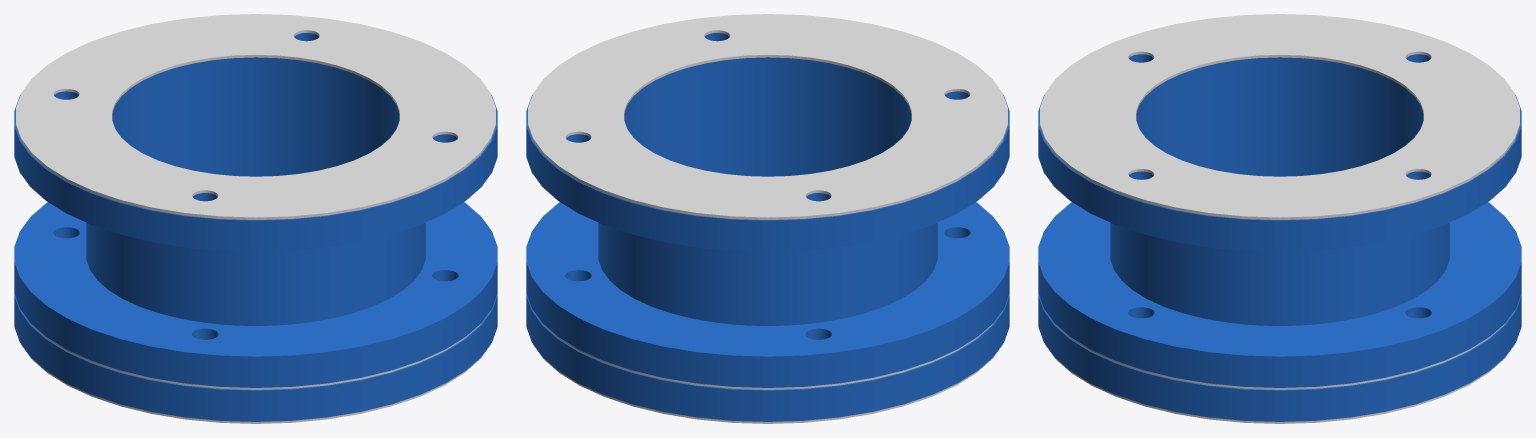
Rendered from m09_baugruppe.glb.
3 views of the same model, side by side, from view 1: azimuth 30°, elevation 25°; view 2: azimuth 150°, elevation 25°; view 3: azimuth 270°, elevation 25° (orthographic).
Parts seen in each view (by area): view 1: M09-P04_1, M09-P06_2, M09-P01_1, M09-P06_1, M09-P05_1; view 2: M09-P04_1, M09-P06_2, M09-P01_1, M09-P06_1, M09-P05_1; view 3: M09-P04_1, M09-P06_2, M09-P01_1, M09-P06_1, M09-P05_1.
Boxes of the visible parts, bbox=[...] form: M09-P04_1: bbox=[14, 33, 497, 387]; M09-P06_2: bbox=[16, 14, 495, 219]; M09-P01_1: bbox=[14, 293, 497, 421]; M09-P06_1: bbox=[21, 344, 490, 423]; M09-P05_1: bbox=[21, 310, 490, 389]; M09-P04_1: bbox=[526, 33, 1009, 387]; M09-P06_2: bbox=[528, 14, 1007, 219]; M09-P01_1: bbox=[526, 293, 1009, 421]; M09-P06_1: bbox=[533, 344, 1002, 423]; M09-P05_1: bbox=[533, 310, 1002, 389]; M09-P04_1: bbox=[1038, 54, 1521, 387]; M09-P06_2: bbox=[1040, 14, 1519, 219]; M09-P01_1: bbox=[1038, 293, 1521, 421]; M09-P06_1: bbox=[1045, 344, 1514, 423]; M09-P05_1: bbox=[1045, 310, 1514, 389].
Size of the model in its own units: 84 by 39.5 by 83.77.
